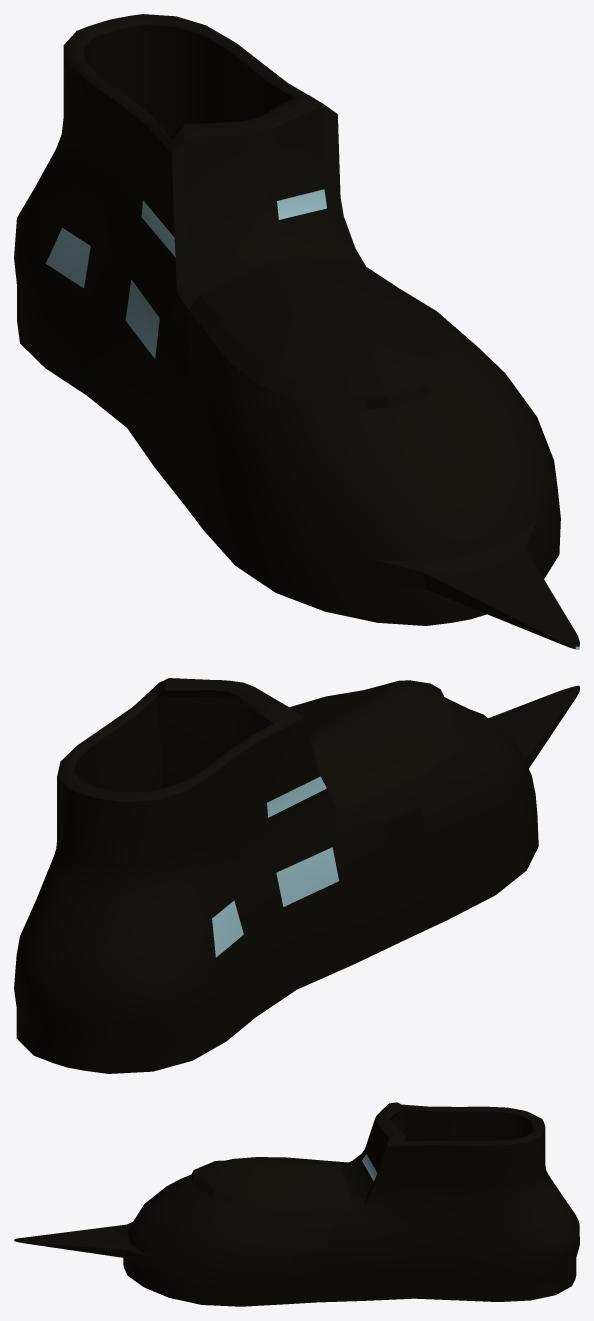
File: RightShoe.fbx
3 views of the same model, one above another, from view 1: azimuth 30°, elevation 25°; view 2: azimuth 150°, elevation 25°; view 3: azimuth 270°, elevation 25° (orthographic). The views are drawn at different scales.
Parts seen in each view (by area): view 1: Shoe_R; view 2: Shoe_R; view 3: Shoe_R.
Part boxes in pixels (left/top/right/bottom): Shoe_R: left=14, top=14, right=579, bottom=649; Shoe_R: left=14, top=678, right=579, bottom=1073; Shoe_R: left=14, top=1102, right=579, bottom=1306.
Size of the model in its own units: 26.74 by 26.77 by 86.92.
